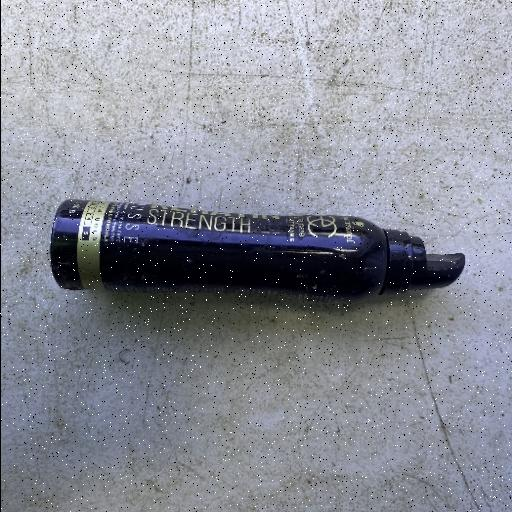Metal: (49, 196, 466, 302)
